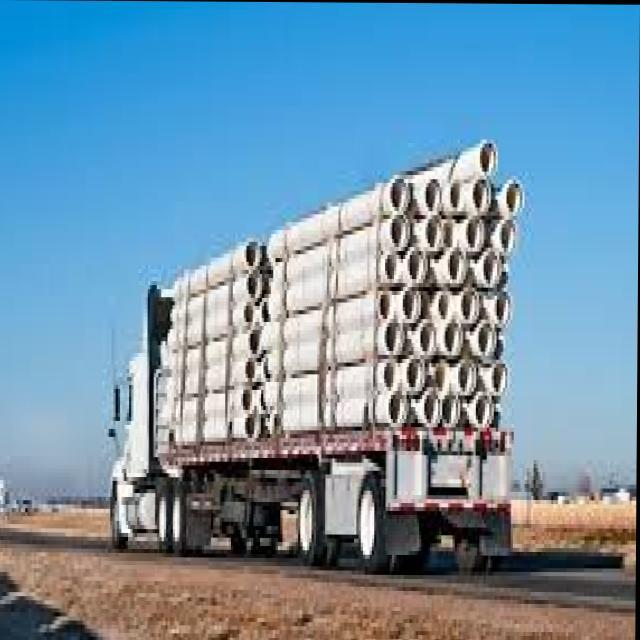uncovered: (110, 141, 516, 562)
